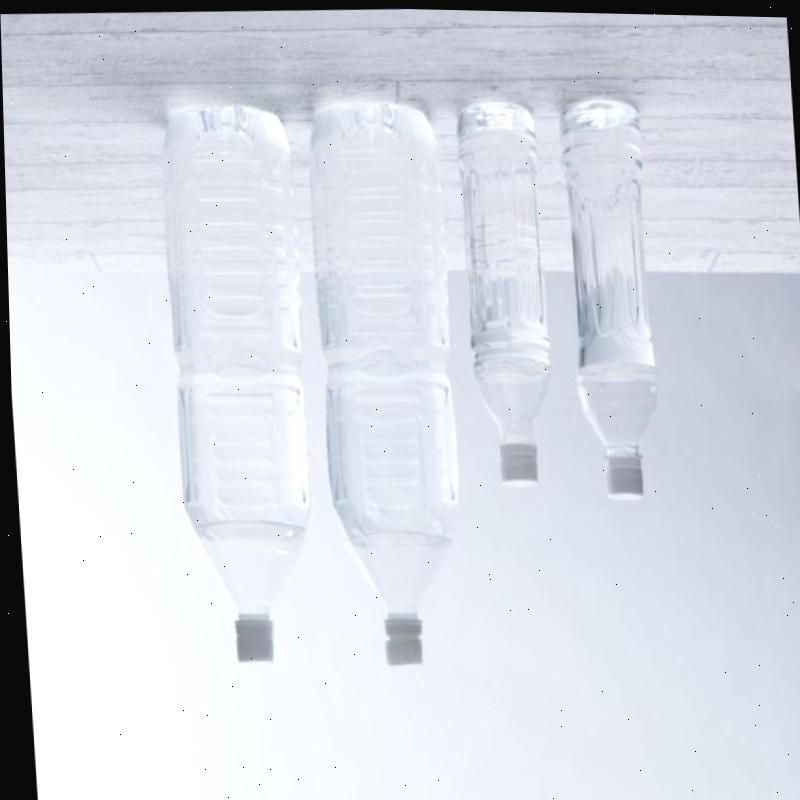botella: (300, 97, 468, 664), (152, 99, 319, 662), (558, 92, 663, 497), (453, 98, 556, 484)
